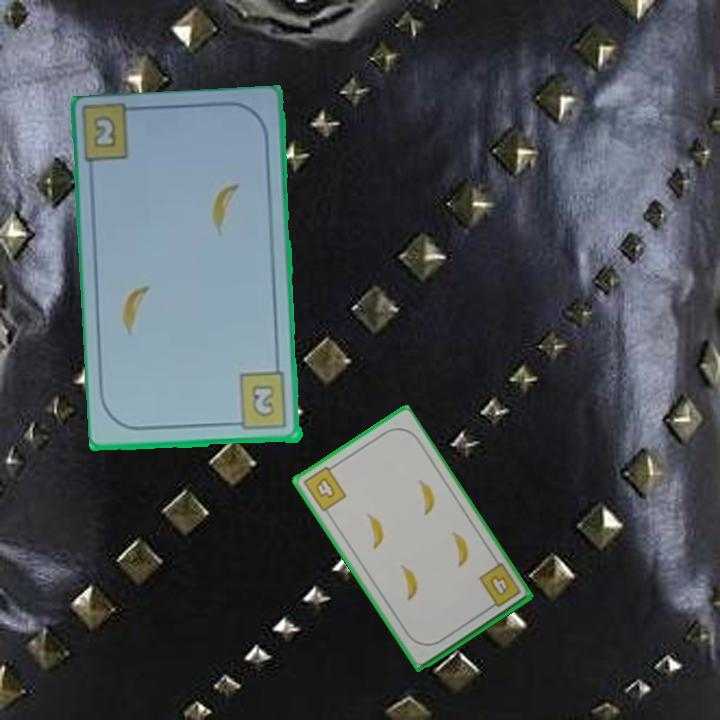2b: (229, 369, 290, 433), (89, 112, 120, 152)
4b: (299, 460, 349, 515), (475, 559, 524, 613)
